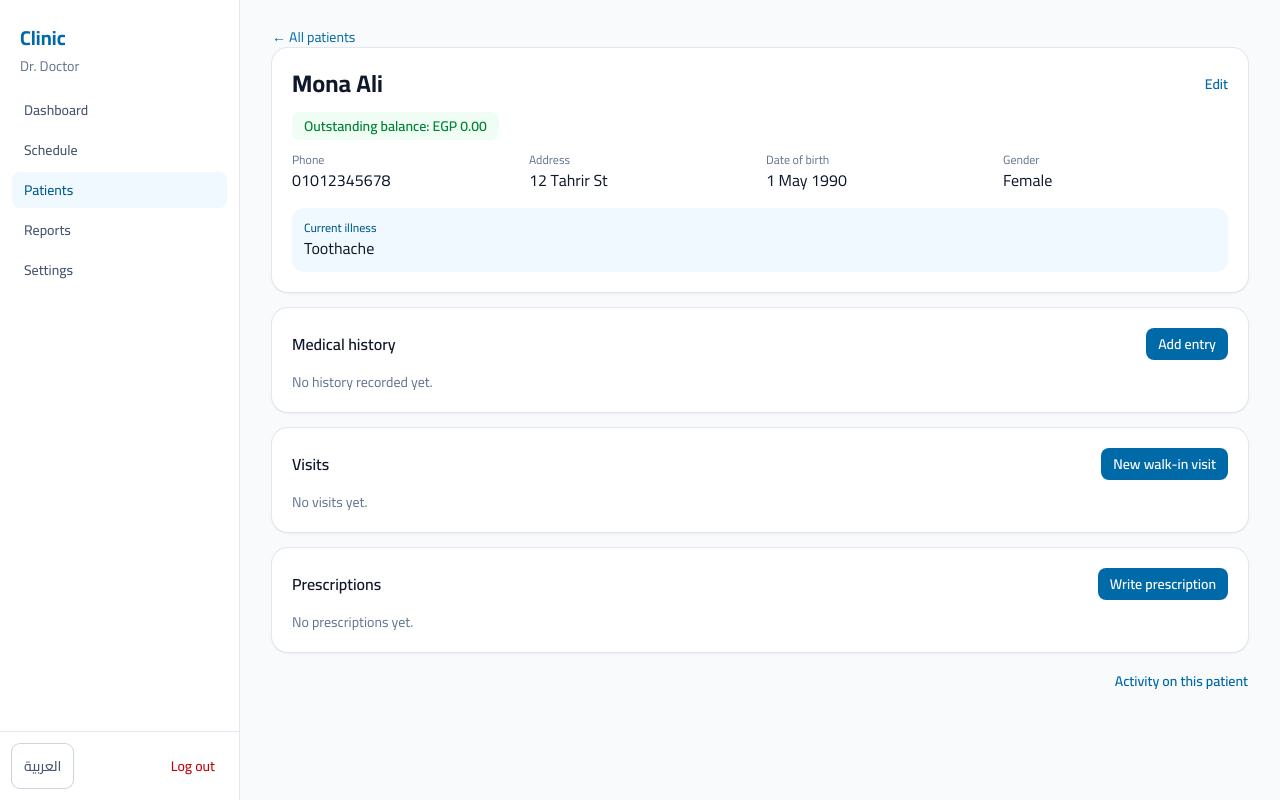
Test: PatientDetails › adds a private entry by default
Click the button "Add entry". click: (1187,344)
box: [1146,328,1228,360]
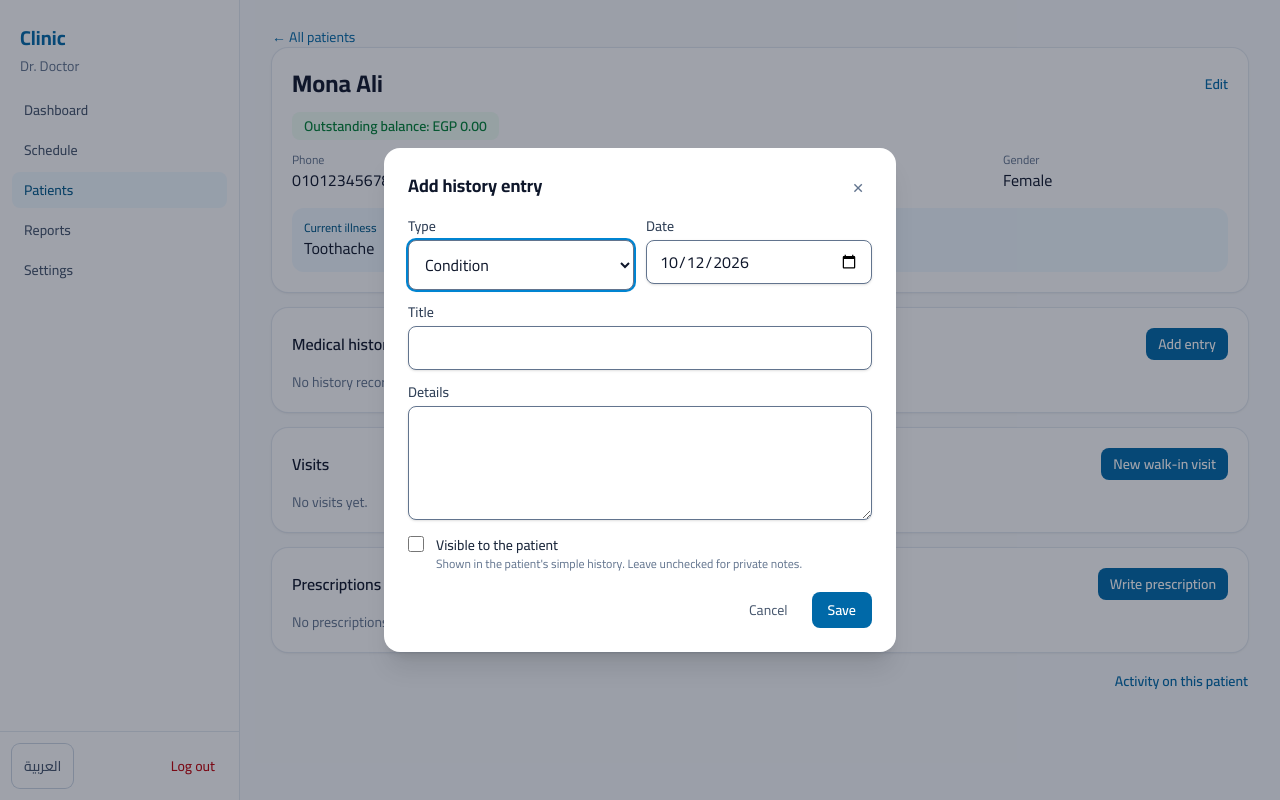
Select "Allergy" in the dropdown labelled "Type". click: (521,265)
box: [408,240,634,290]
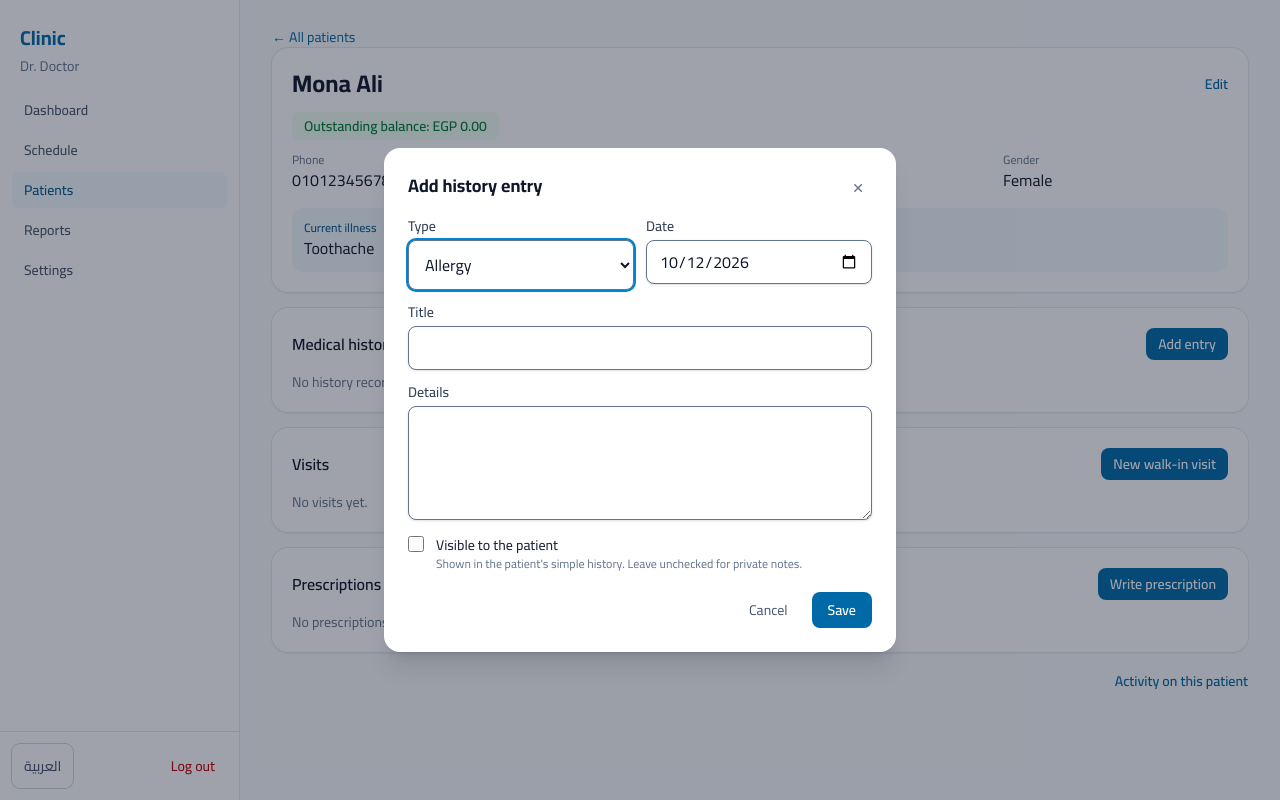
Type "Penicillin" into the field labelled "Title". click: (640,348)
box: [408,326,872,370]
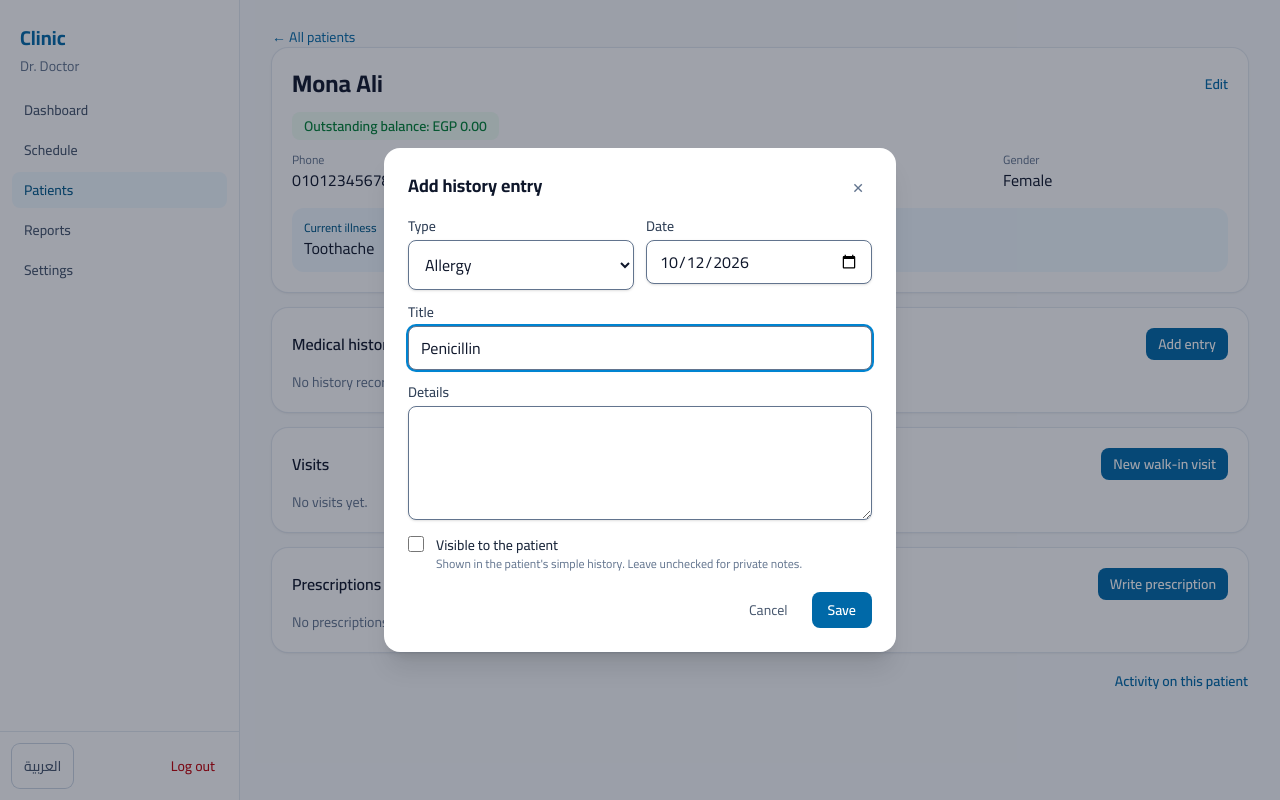
expect the checkbox labelled "Visible to the patient" is not checked: met, box [408,536,424,552]
Click the button "Save". click: (842,610)
box: [812,592,872,628]
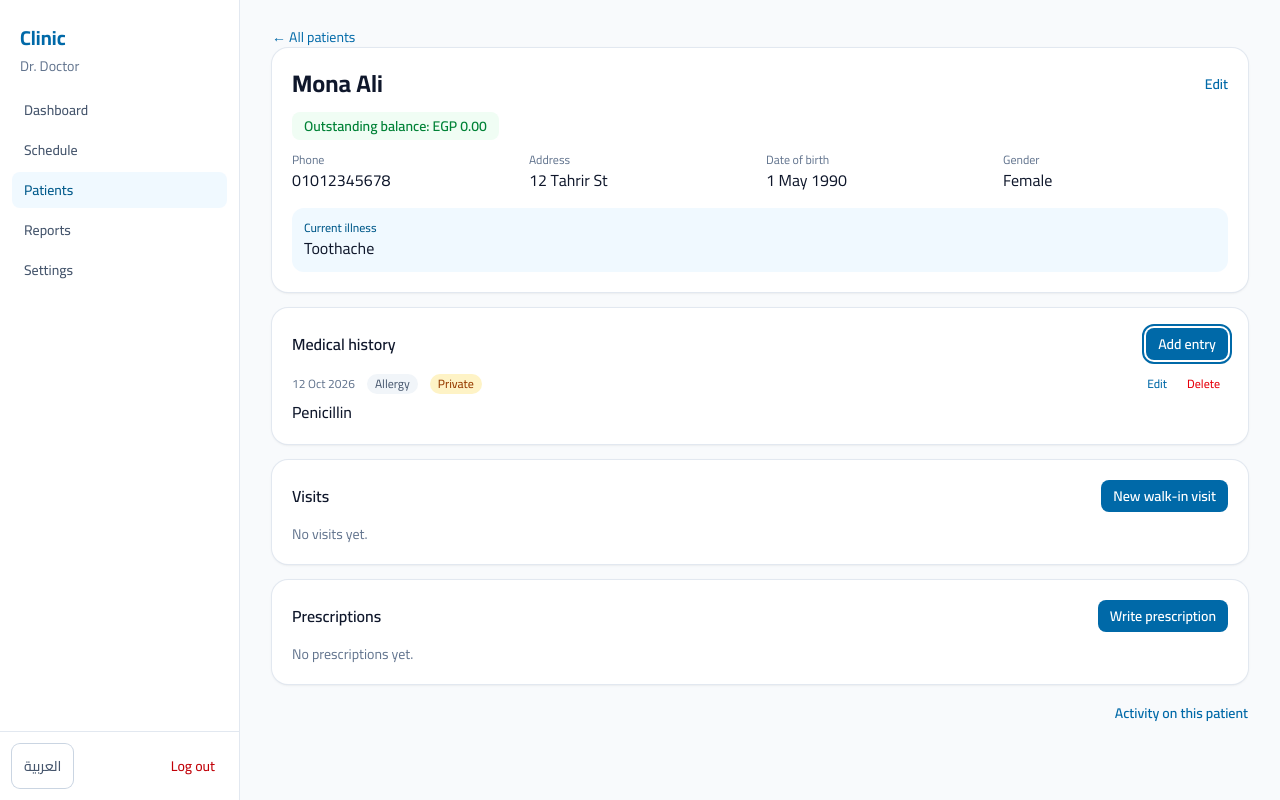
expect the text "Private" is shown: met, box [430,374,482,394]
expect the dialog is gone: met
expect the text "Penicillin" is shown: met, box [292,397,352,427]
